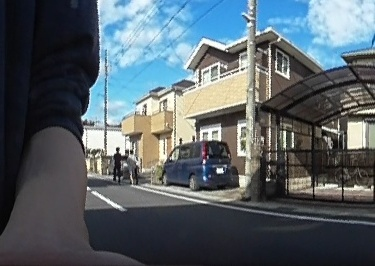person: (112, 147, 123, 180), (127, 148, 137, 184)
